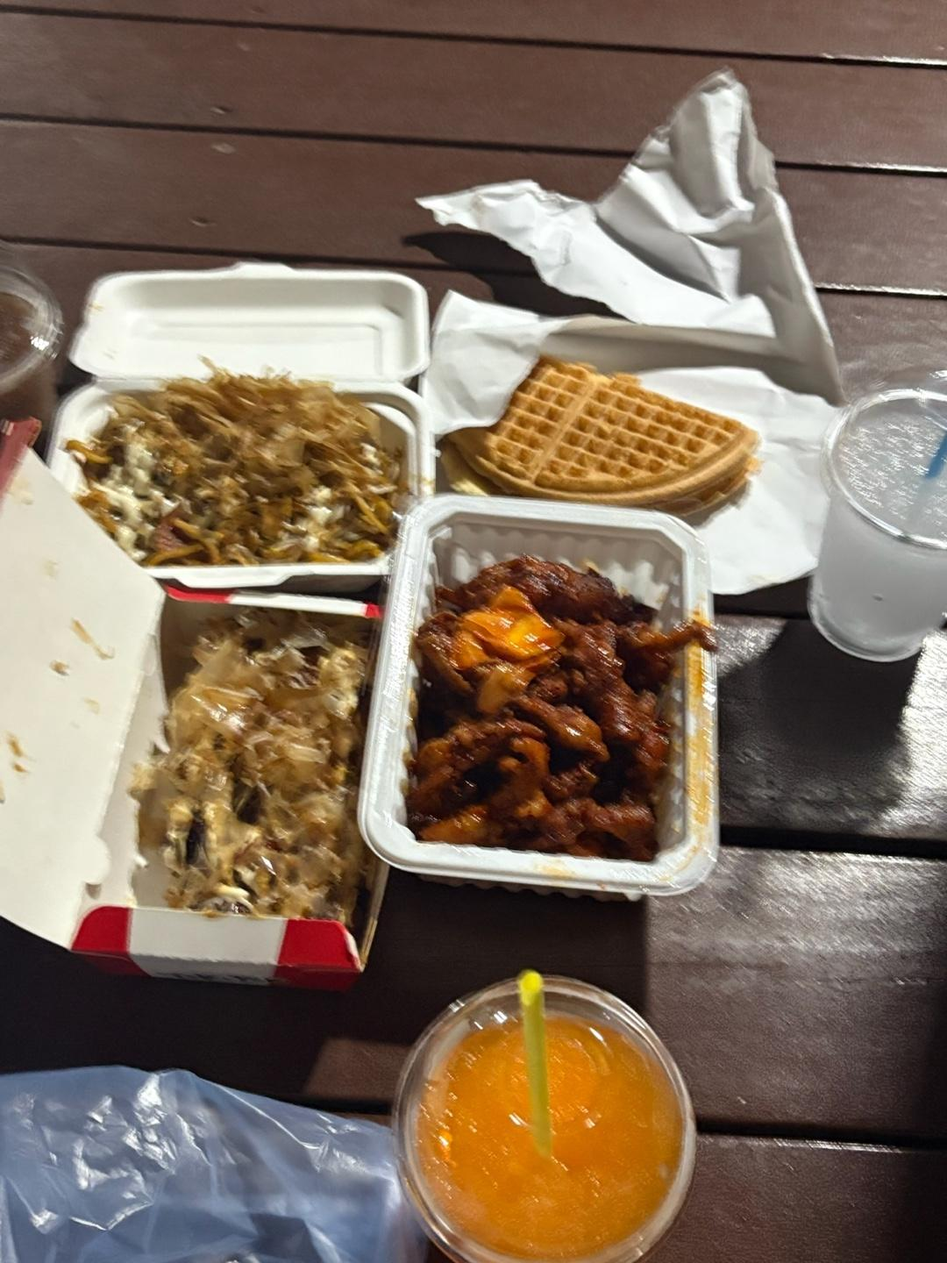Bottle: (393, 971, 694, 1262), (808, 369, 946, 660)
Lunch Box: (0, 438, 387, 988), (359, 496, 718, 898), (50, 262, 432, 589)
